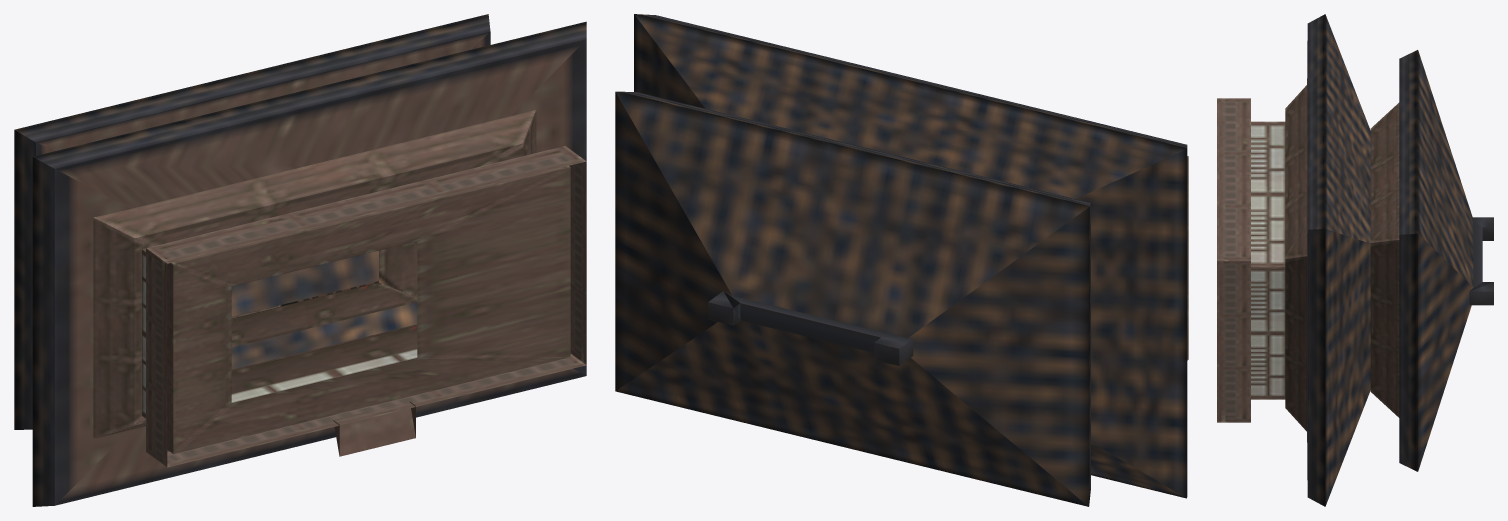
The model's file is b_qy_chenglou01_01_lod2.FBX.
3 renders of one model, left to right at view 1: azimuth 30°, elevation 25°; view 2: azimuth 150°, elevation 25°; view 3: azimuth 270°, elevation 25°, orthographic. The views are drawn at different scales.
Visible parts, largest first — view 1: b_qy_chenglou01_01_lod2; view 2: b_qy_chenglou01_01_lod2; view 3: b_qy_chenglou01_01_lod2.
Boxes of the visible parts, x1=… form: b_qy_chenglou01_01_lod2: x1=14, y1=14, x2=586, y2=506; b_qy_chenglou01_01_lod2: x1=615, y1=14, x2=1188, y2=506; b_qy_chenglou01_01_lod2: x1=1217, y1=14, x2=1493, y2=506.
Size of the model in its own units: 28.77 by 17.38 by 15.66.
